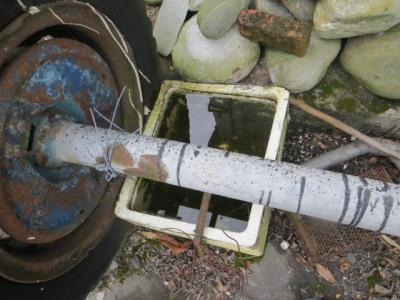styrofoam: (113, 77, 291, 260)
